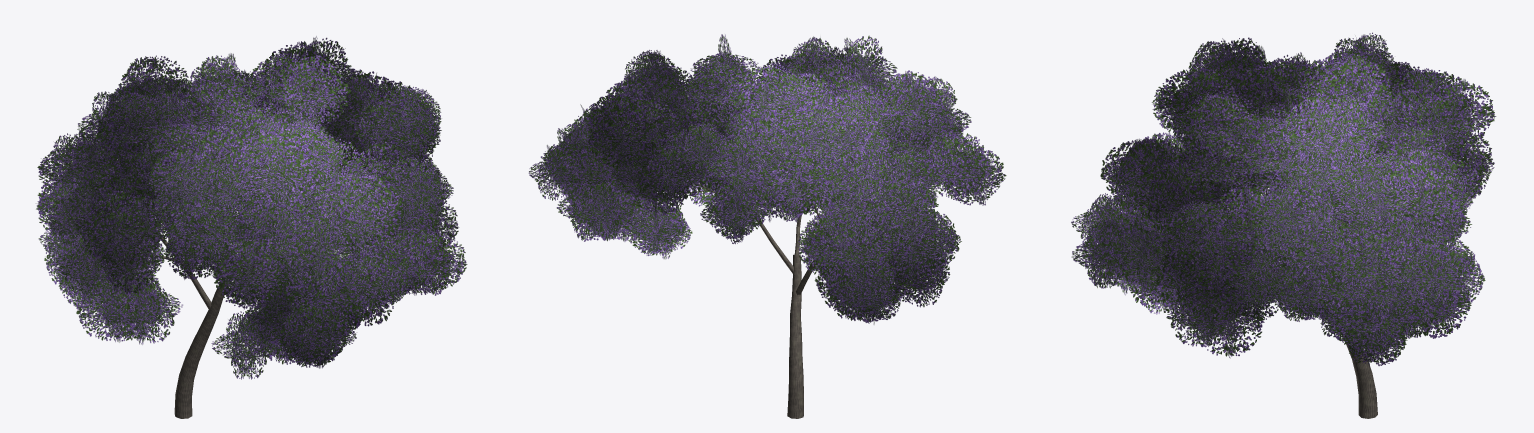
Rendered from arbol-jacaranda.gltf.
3 views of the same model, side by side, from view 1: azimuth 30°, elevation 25°; view 2: azimuth 150°, elevation 25°; view 3: azimuth 270°, elevation 25° (orthographic). The views are drawn at different scales.
Parts seen in each view (by area): view 1: jacaranda_hojas, jacaranda_tronco; view 2: jacaranda_hojas, jacaranda_tronco; view 3: jacaranda_hojas, jacaranda_tronco.
Boxes of the visible parts, x1,y1,x2,y2 form: jacaranda_hojas: (36, 36, 467, 379); jacaranda_tronco: (104, 110, 413, 418); jacaranda_hojas: (528, 34, 1006, 324); jacaranda_tronco: (586, 90, 942, 418); jacaranda_hojas: (1071, 32, 1496, 367); jacaranda_tronco: (1131, 140, 1412, 418).
Bounding box in the file's own units: 8.74 × 6.95 × 7.76.
2 materials, 2 textured.
